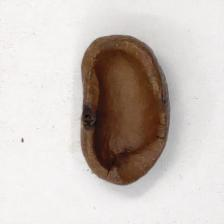NG: (81, 35, 168, 184)
